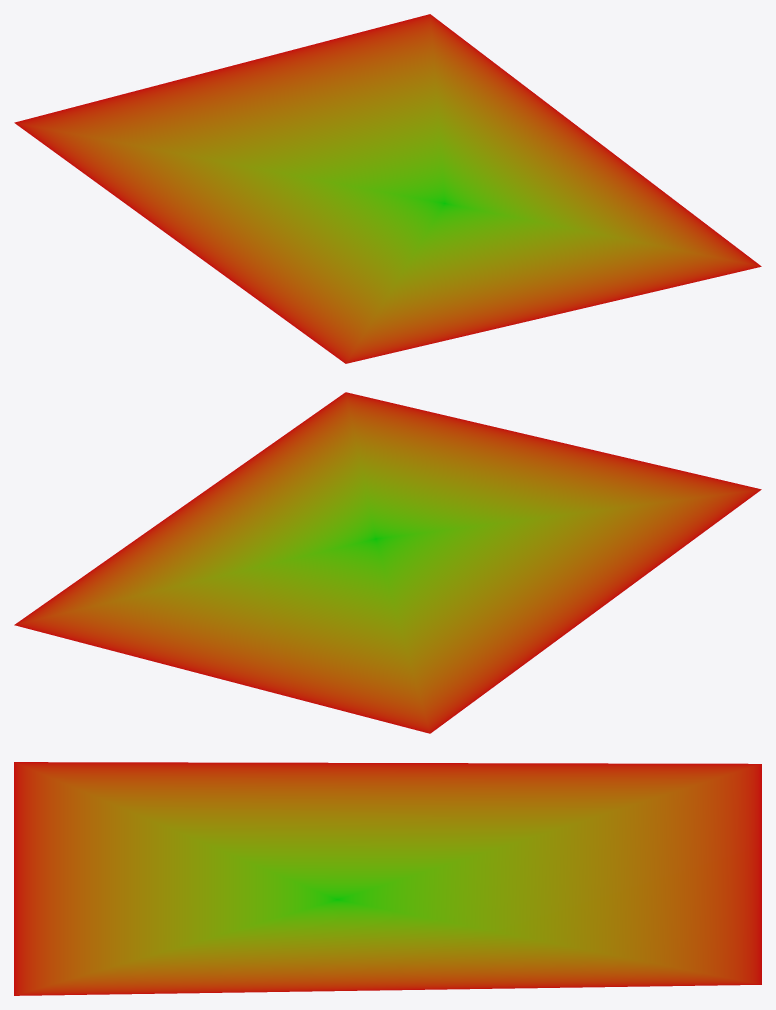
File: Mile-a-minute Vine_LOD3_Var2_sfqns.fbx
3 renders of one model, top to bottom at view 1: azimuth 30°, elevation 25°; view 2: azimuth 150°, elevation 25°; view 3: azimuth 270°, elevation 25°, orthographic. The views are drawn at different scales.
Parts seen in each view (by area): view 1: _9a3c_Var2_LOD3; view 2: _9a3c_Var2_LOD3; view 3: _9a3c_Var2_LOD3.
Part boxes in pixels (x1,y1,x2,y2): _9a3c_Var2_LOD3: (14,14,761,363); _9a3c_Var2_LOD3: (14,392,761,733); _9a3c_Var2_LOD3: (14,762,761,995).
Size of the model in its own units: 34.14 by 0.7696 by 47.12.
